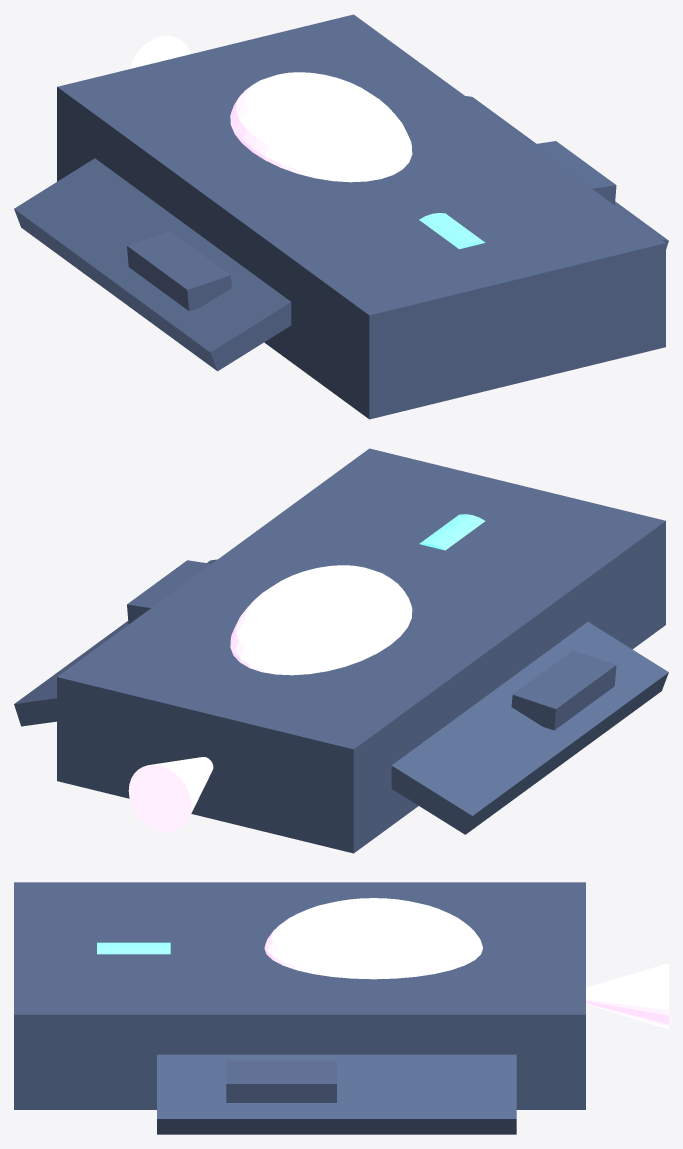
Rendered from valkyrie_t3.glb.
3 views of the same model, one above another, from view 1: azimuth 30°, elevation 25°; view 2: azimuth 150°, elevation 25°; view 3: azimuth 270°, elevation 25° (orthographic). The views are drawn at different scales.
Parts seen in each view (by area): view 1: Cube, Cube.002, Sphere, Cube.005, Cube.004, Cone, Cylinder.002, Cube.001; view 2: Cube, Cube.002, Sphere, Cube.005, Cone, Cube.001, Cube.004, Cylinder.002; view 3: Cube, Cube.001, Sphere, Cube.004, Cone, Cylinder.002.
Boxes of the visible parts, left/top/right/bottom form: Cube: left=57, top=14, right=665, bottom=419; Cube.002: left=14, top=158, right=291, bottom=371; Sphere: left=230, top=72, right=412, bottom=182; Cube.005: left=127, top=231, right=231, bottom=311; Cube.004: left=532, top=141, right=616, bottom=205; Cone: left=130, top=35, right=190, bottom=68; Cylinder.002: left=419, top=213, right=485, bottom=249; Cube.001: left=465, top=96, right=668, bottom=249; Cube: left=57, top=448, right=665, bottom=853; Cube.002: left=391, top=622, right=668, bottom=834; Sphere: left=230, top=565, right=412, bottom=675; Cube.005: left=511, top=650, right=616, bottom=730; Cone: left=128, top=757, right=213, bottom=832; Cube.001: left=14, top=559, right=217, bottom=726; Cube.004: left=127, top=560, right=210, bottom=624; Cylinder.002: left=419, top=514, right=485, bottom=550; Cube: left=14, top=882, right=585, bottom=1109; Cube.001: left=157, top=1054, right=516, bottom=1134; Sphere: left=264, top=898, right=482, bottom=979; Cube.004: left=226, top=1060, right=336, bottom=1102; Cone: left=586, top=963, right=668, bottom=1028; Cylinder.002: left=97, top=942, right=170, bottom=954.
Size of the model in its own units: 2.63 by 0.815 by 3.55.
